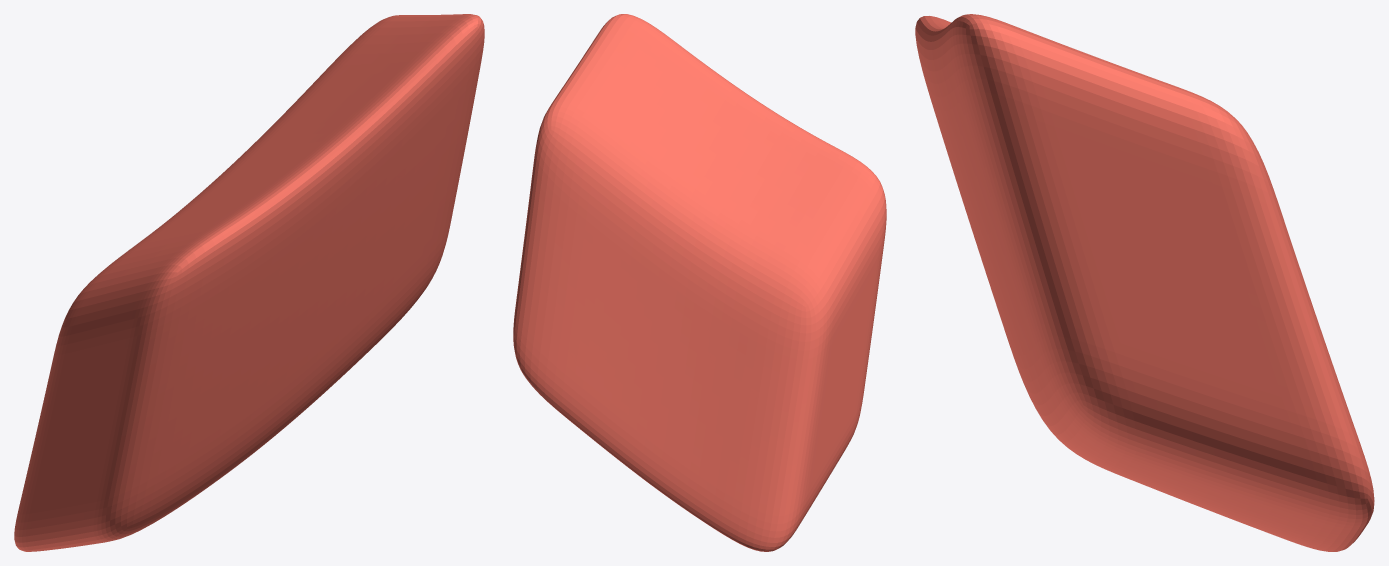
3 views of the same model, side by side, from view 1: azimuth 30°, elevation 25°; view 2: azimuth 150°, elevation 25°; view 3: azimuth 270°, elevation 25° (orthographic). The views are drawn at different scales.
Parts seen in each view (by area): view 1: waves_1.028; view 2: waves_1.028; view 3: waves_1.028.
Part boxes in pixels (<box>): waves_1.028: <box>14,14,484,551</box>; waves_1.028: <box>513,14,886,551</box>; waves_1.028: <box>915,14,1374,551</box>.
Size of the model in its own units: 30.39 by 43.31 by 24.92.
